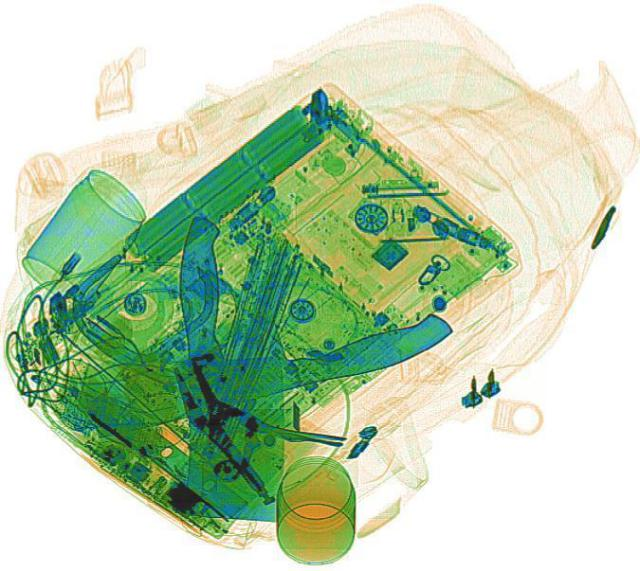Knife: (83, 309, 457, 438), (172, 214, 290, 519)
